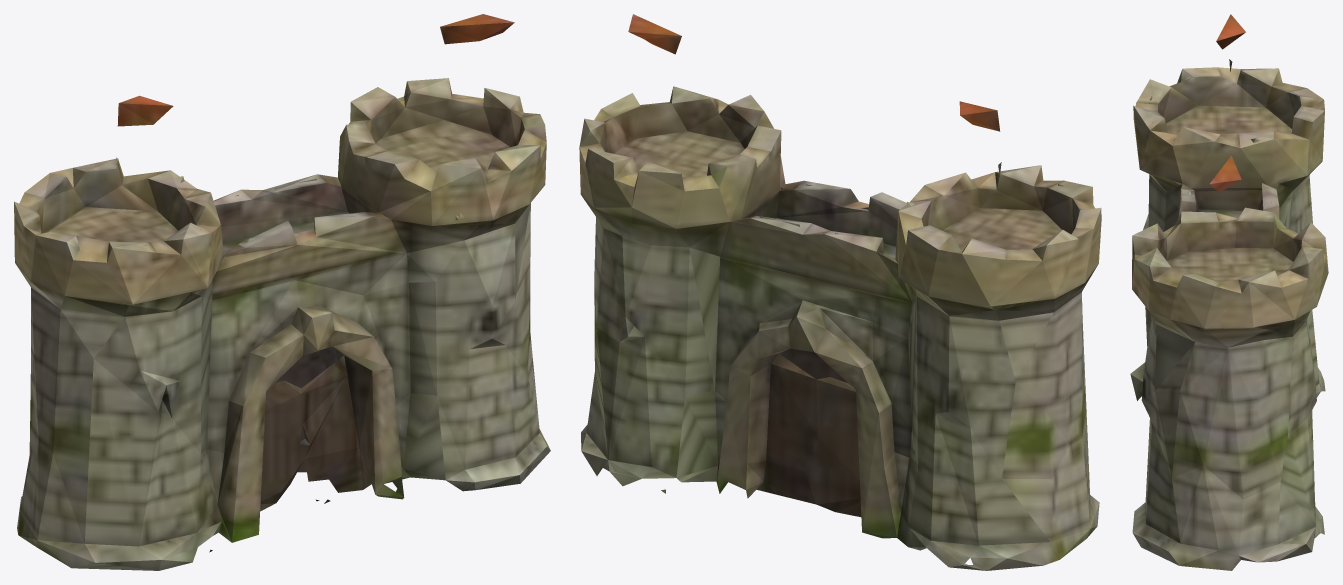
File: gate_small_towers_lod1.glb
3 renders of one model, left to right at view 1: azimuth 30°, elevation 25°; view 2: azimuth 150°, elevation 25°; view 3: azimuth 270°, elevation 25°, orthographic. The views are drawn at different scales.
Parts seen in each view (by area): view 1: gate_small_towers_lod1; view 2: gate_small_towers_lod1; view 3: gate_small_towers_lod1.
Part boxes in pixels (x1,y1,x2,y2): gate_small_towers_lod1: (14,14,550,570); gate_small_towers_lod1: (579,14,1101,570); gate_small_towers_lod1: (1130,14,1328,570).
Size of the model in its own units: 14.14 by 11.58 by 5.43.
1 material, 1 textured.
